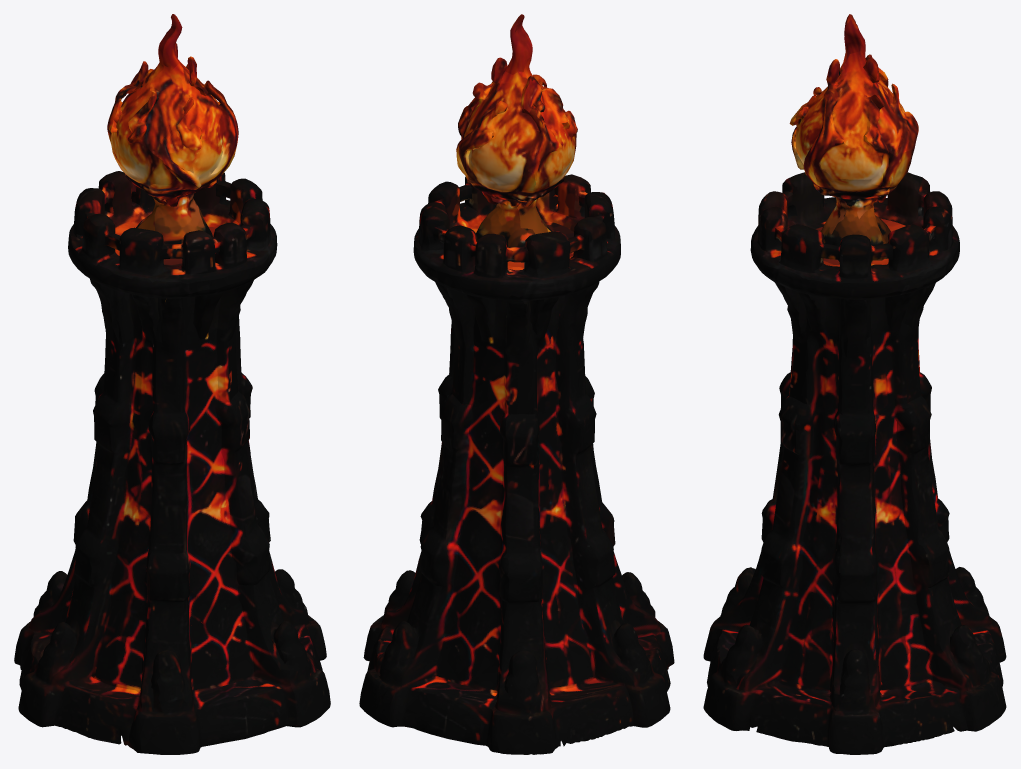
3 views of the same model, side by side, from view 1: azimuth 30°, elevation 25°; view 2: azimuth 150°, elevation 25°; view 3: azimuth 270°, elevation 25° (orthographic).
Parts seen in each view (by area): view 1: textured_mesh; view 2: textured_mesh; view 3: textured_mesh.
Boxes of the visible parts, x1,y1,x2,y2 form: textured_mesh: (14, 14, 330, 754); textured_mesh: (359, 14, 674, 754); textured_mesh: (703, 14, 1006, 754).
Bounding box in the file's own units: 0.9 × 2 × 0.8174.
1 material, 1 textured.
